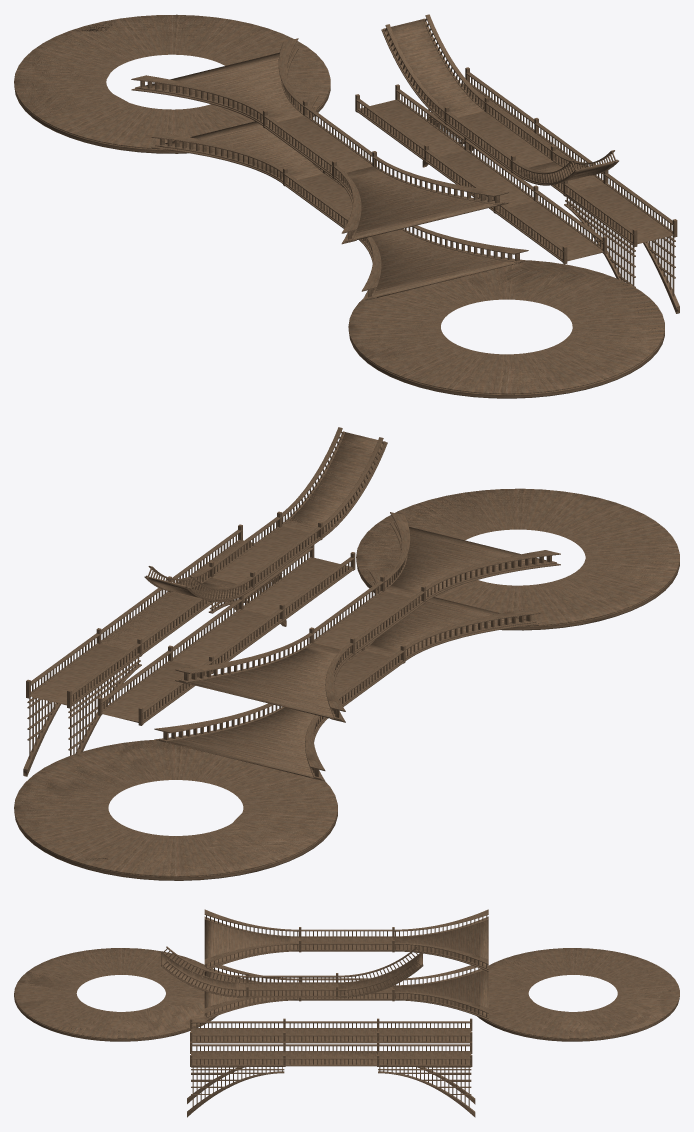
Rendered from Tree-To-Tree_Bridges_1A1.fbx.
The picture shows the model from 3 angles, top to bottom: view 1: azimuth 30°, elevation 25°; view 2: azimuth 150°, elevation 25°; view 3: azimuth 270°, elevation 25°; orthographic projection. The views are drawn at different scales.
Parts seen in each view (by area): view 1: Tree-To-Tree_Bridge_1A1, Tree-To-Tree_Bridge_1A1.001, Tree-To-Tree_Bridge_1A2, Tree-To-Tree_Bridge_1A5, Tree-To-Tree_Bridge_1A3, Tree-To-Tree_Bridge_1A4, Tree-To-Tree_Bridge_1A5.001, Tree-To-Tree_Bridge_1A2.001, Tree-To-Tree_Bridge_1A4.001; view 2: Tree-To-Tree_Bridge_1A1, Tree-To-Tree_Bridge_1A1.001, Tree-To-Tree_Bridge_1A2, Tree-To-Tree_Bridge_1A4, Tree-To-Tree_Bridge_1A5, Tree-To-Tree_Bridge_1A3, Tree-To-Tree_Bridge_1A4.001, Tree-To-Tree_Bridge_1A5.001, Tree-To-Tree_Bridge_1A2.001; view 3: Tree-To-Tree_Bridge_1A1, Tree-To-Tree_Bridge_1A1.001, Tree-To-Tree_Bridge_1A4, Tree-To-Tree_Bridge_1A2, Tree-To-Tree_Bridge_1A3, Tree-To-Tree_Bridge_1A5, Tree-To-Tree_Bridge_1A4.001, Tree-To-Tree_Bridge_1A2.001, Tree-To-Tree_Bridge_1A5.001.
Part boxes in pixels (x1,y1,x2,y2): Tree-To-Tree_Bridge_1A1: (14, 14, 664, 398); Tree-To-Tree_Bridge_1A1.001: (14, 15, 664, 398); Tree-To-Tree_Bridge_1A2: (131, 38, 508, 244); Tree-To-Tree_Bridge_1A5: (381, 14, 618, 185); Tree-To-Tree_Bridge_1A3: (355, 84, 607, 264); Tree-To-Tree_Bridge_1A4: (422, 67, 679, 313); Tree-To-Tree_Bridge_1A5.001: (383, 17, 618, 185); Tree-To-Tree_Bridge_1A2.001: (132, 39, 508, 242); Tree-To-Tree_Bridge_1A4.001: (422, 73, 679, 313); Tree-To-Tree_Bridge_1A1: (14, 488, 679, 880); Tree-To-Tree_Bridge_1A1.001: (14, 489, 679, 880); Tree-To-Tree_Bridge_1A2: (175, 512, 560, 722); Tree-To-Tree_Bridge_1A4: (23, 524, 286, 775); Tree-To-Tree_Bridge_1A5: (144, 427, 387, 602); Tree-To-Tree_Bridge_1A3: (97, 545, 355, 725); Tree-To-Tree_Bridge_1A4.001: (23, 530, 285, 776); Tree-To-Tree_Bridge_1A5.001: (144, 431, 386, 602); Tree-To-Tree_Bridge_1A2.001: (175, 512, 560, 720); Tree-To-Tree_Bridge_1A1: (14, 948, 679, 1041); Tree-To-Tree_Bridge_1A1.001: (14, 948, 678, 1041); Tree-To-Tree_Bridge_1A4: (187, 1041, 475, 1117); Tree-To-Tree_Bridge_1A2: (204, 909, 488, 971); Tree-To-Tree_Bridge_1A3: (190, 1018, 472, 1043); Tree-To-Tree_Bridge_1A5: (161, 946, 422, 998); Tree-To-Tree_Bridge_1A4.001: (187, 1044, 475, 1116); Tree-To-Tree_Bridge_1A2.001: (206, 913, 486, 970); Tree-To-Tree_Bridge_1A5.001: (161, 946, 423, 997).
Bounding box in the file's own units: 3592 × 1852 × 8548.
